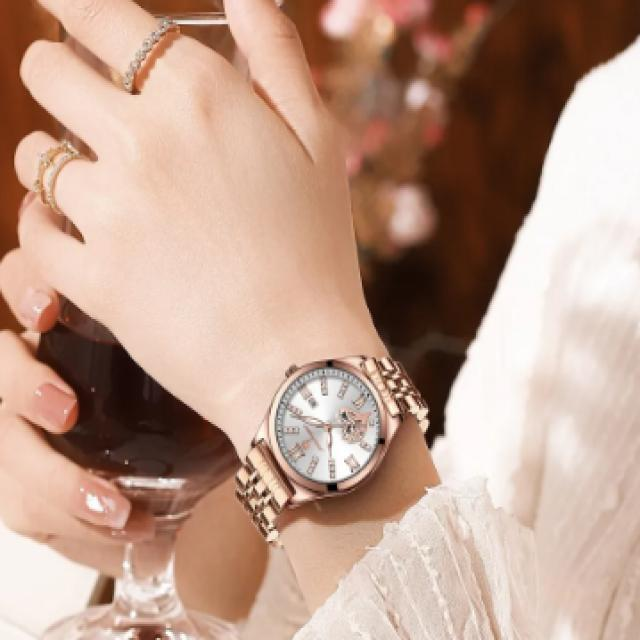Watch: (231, 349, 427, 543)
